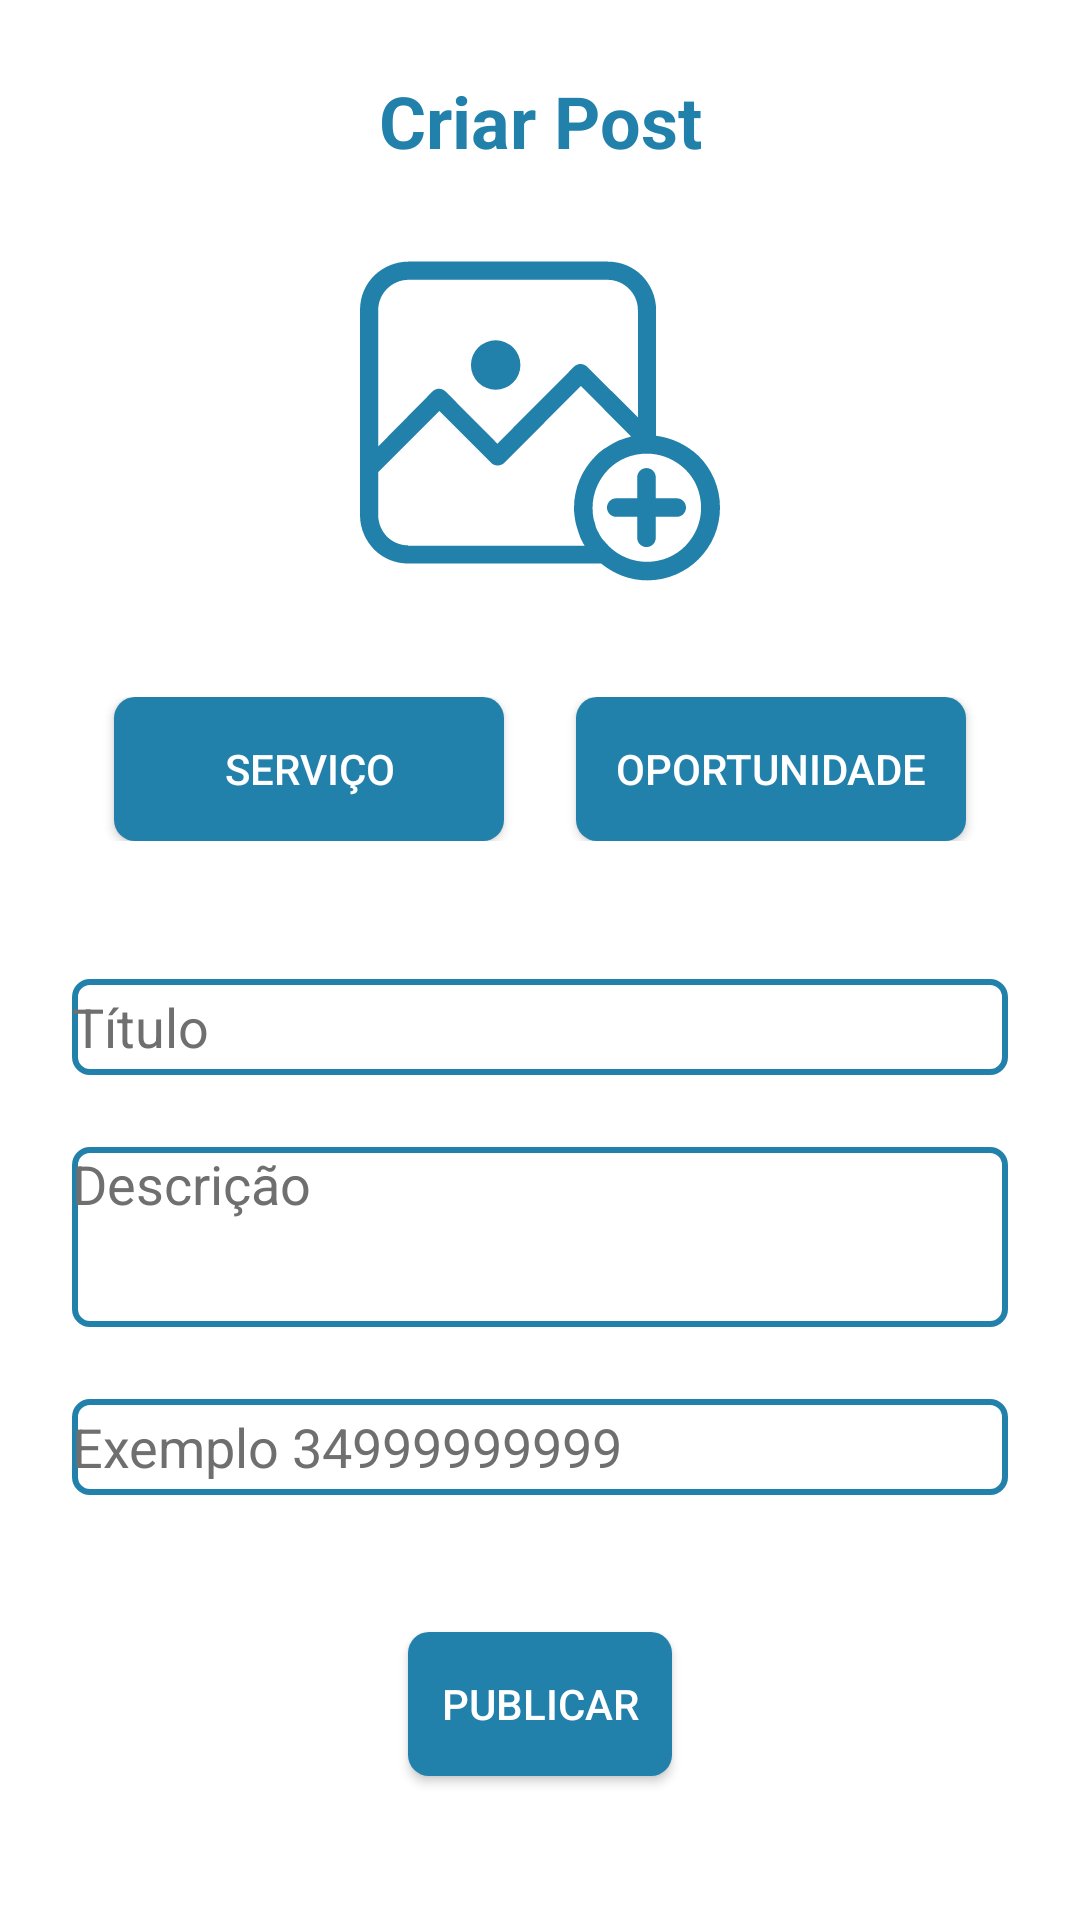

Locate icon controls on the screen. Image size 1080*1920, boxes as (x1, y1, x2, y2).
Publique seu anúncio: (360, 261, 720, 581)
